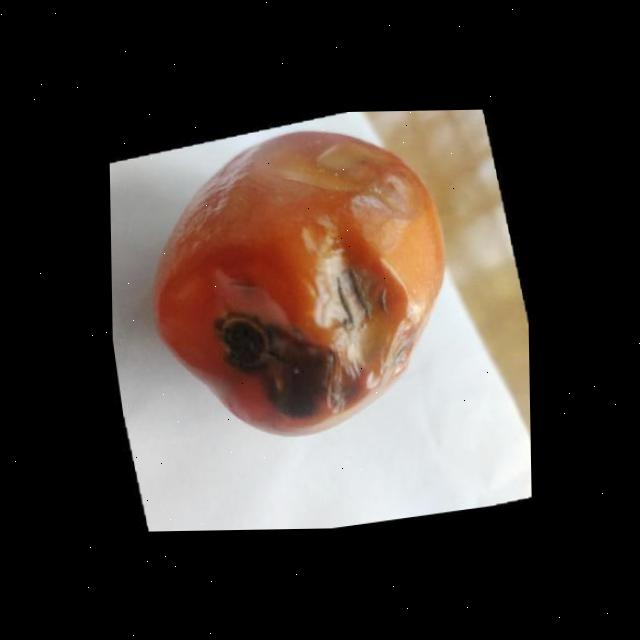tomato: (146, 121, 456, 446)
